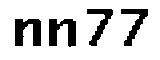7: (119, 6, 154, 53), (82, 4, 114, 51)
n: (46, 15, 79, 51), (11, 14, 42, 50)
